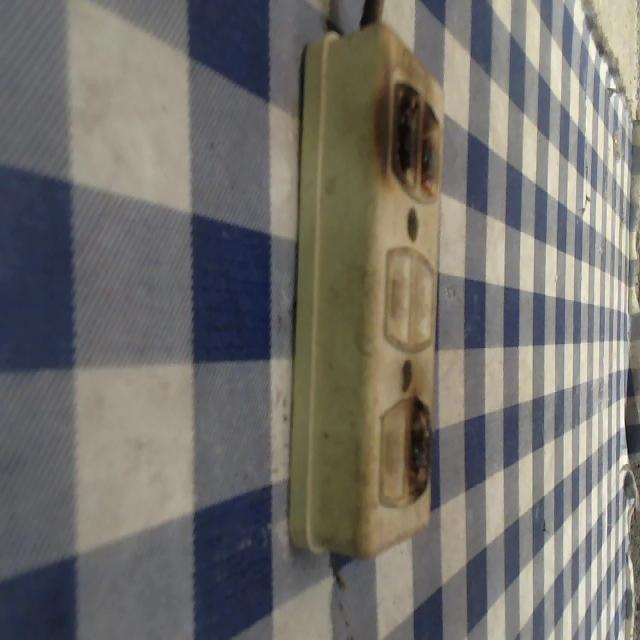-: (369, 69, 446, 208), (400, 389, 433, 503)
